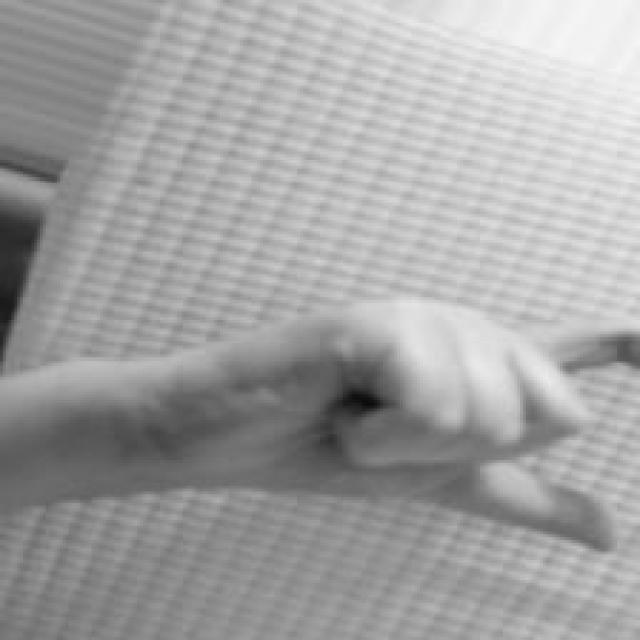C: (294, 293, 640, 553)
